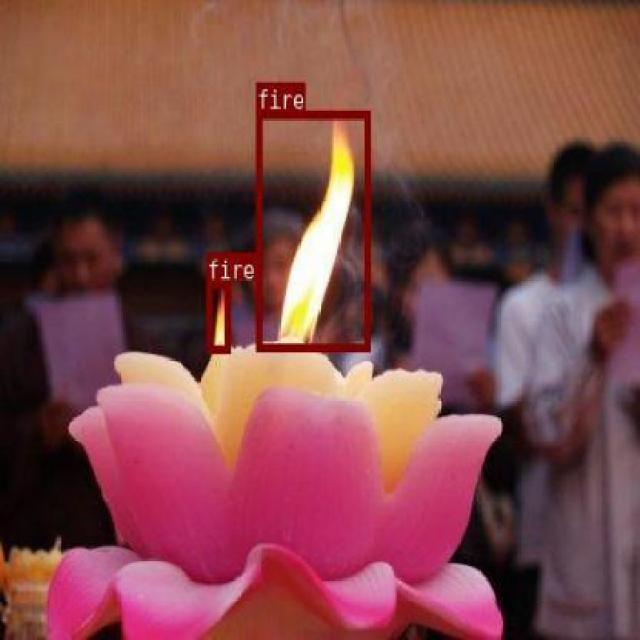Fire: (256, 108, 370, 350), (205, 278, 230, 352)
